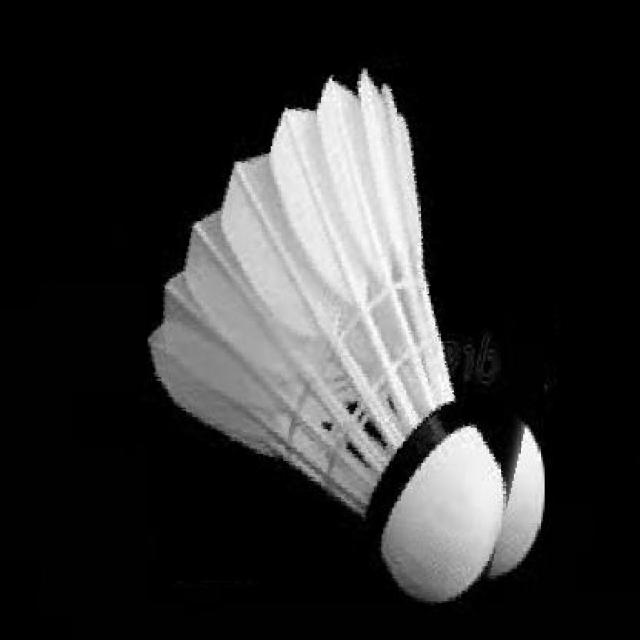Shuttlecock: (147, 67, 503, 603)
